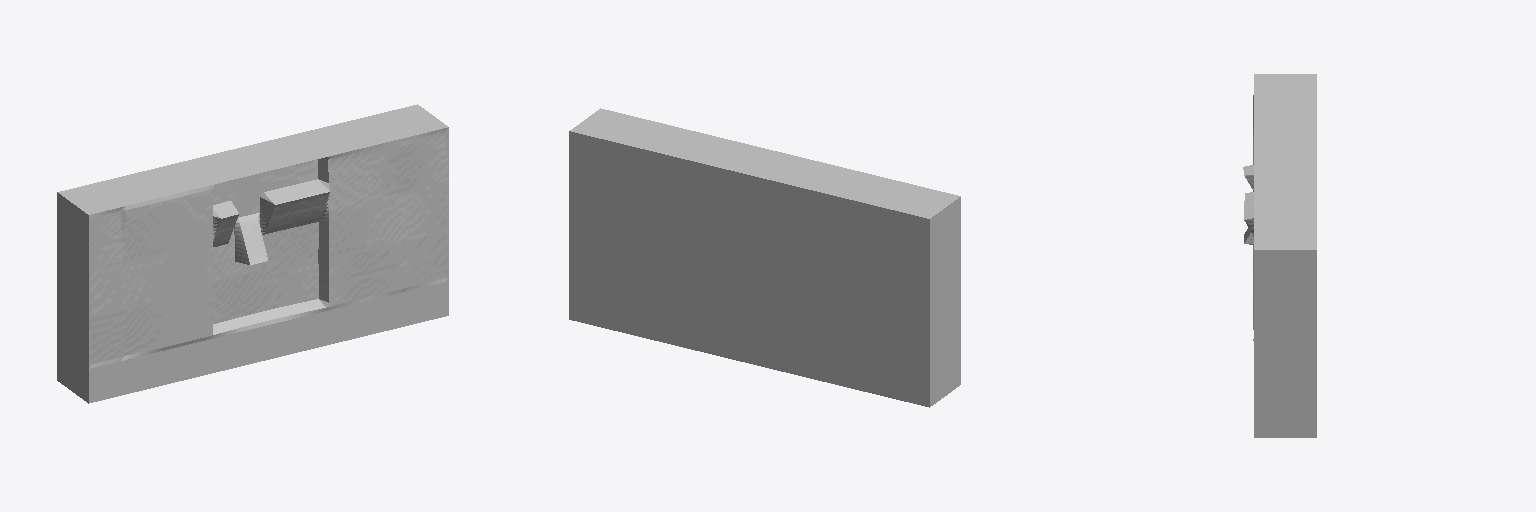
File: rectangular_prism_bumps_9_0.obj
3 views of the same model, side by side, from view 1: azimuth 30°, elevation 25°; view 2: azimuth 150°, elevation 25°; view 3: azimuth 270°, elevation 25° (orthographic).
Size of the model in its own units: 10 by 5 by 1.76.